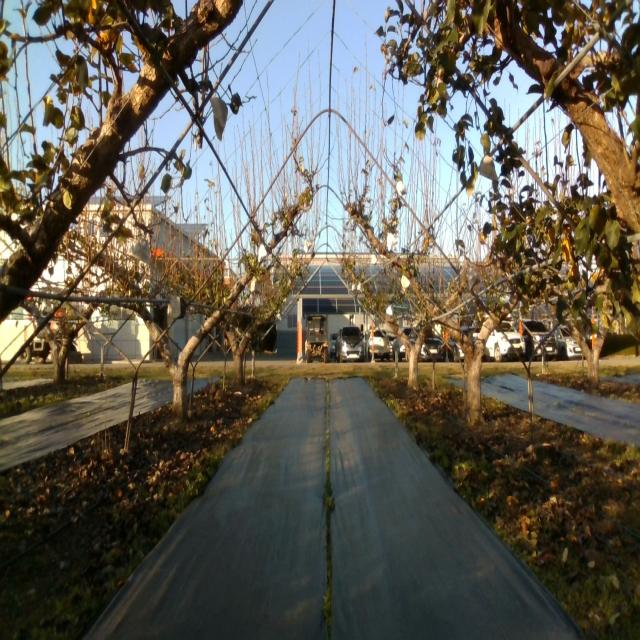pearbags: (210, 97, 229, 140), (128, 236, 152, 265), (479, 156, 499, 183), (467, 266, 480, 290)
